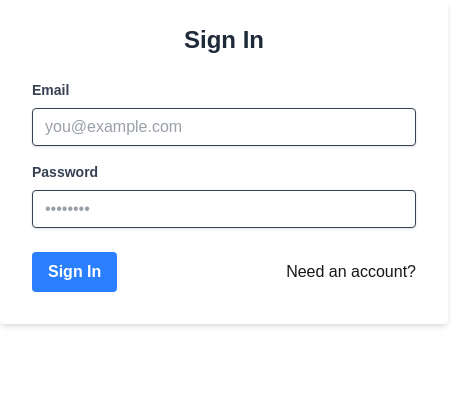
it: LoginForm › Error Handling › clears error on new submission
The image size is (466, 411).
In the field labelled "Email": (224,127) x1=32 y1=108 x2=416 y2=146, type "test@example.com"
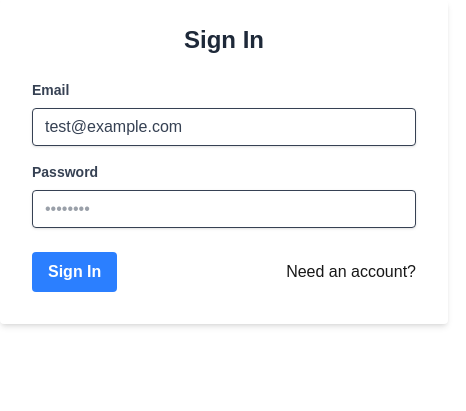
In the password field labelled "Password": (224,209) x1=32 y1=190 x2=416 y2=228, type "wrongpassword"
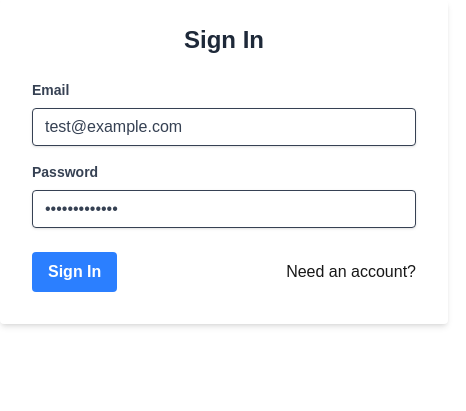
Click the button "Sign In": (75,272) x1=32 y1=252 x2=117 y2=292
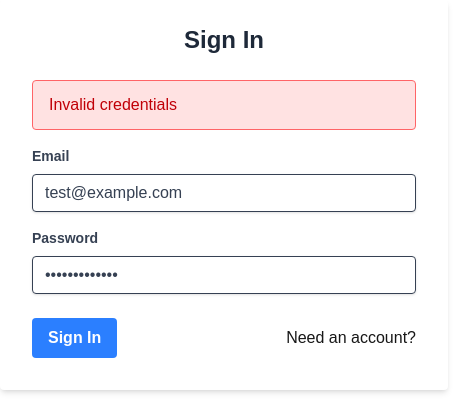
Expected: the text "Invalid credentials" is shown, x1=32 y1=80 x2=416 y2=130
# Try again with correct password
In the password field labelled "Password": (224,275) x1=32 y1=256 x2=416 y2=294, type "correctpassword"
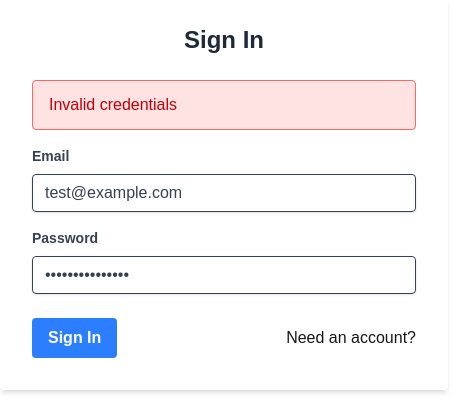
Click the button "Sign In": (75,338) x1=32 y1=318 x2=117 y2=358
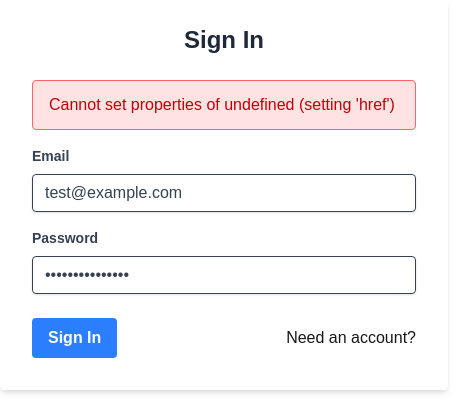
Expected: the text "Invalid credentials" is gone
